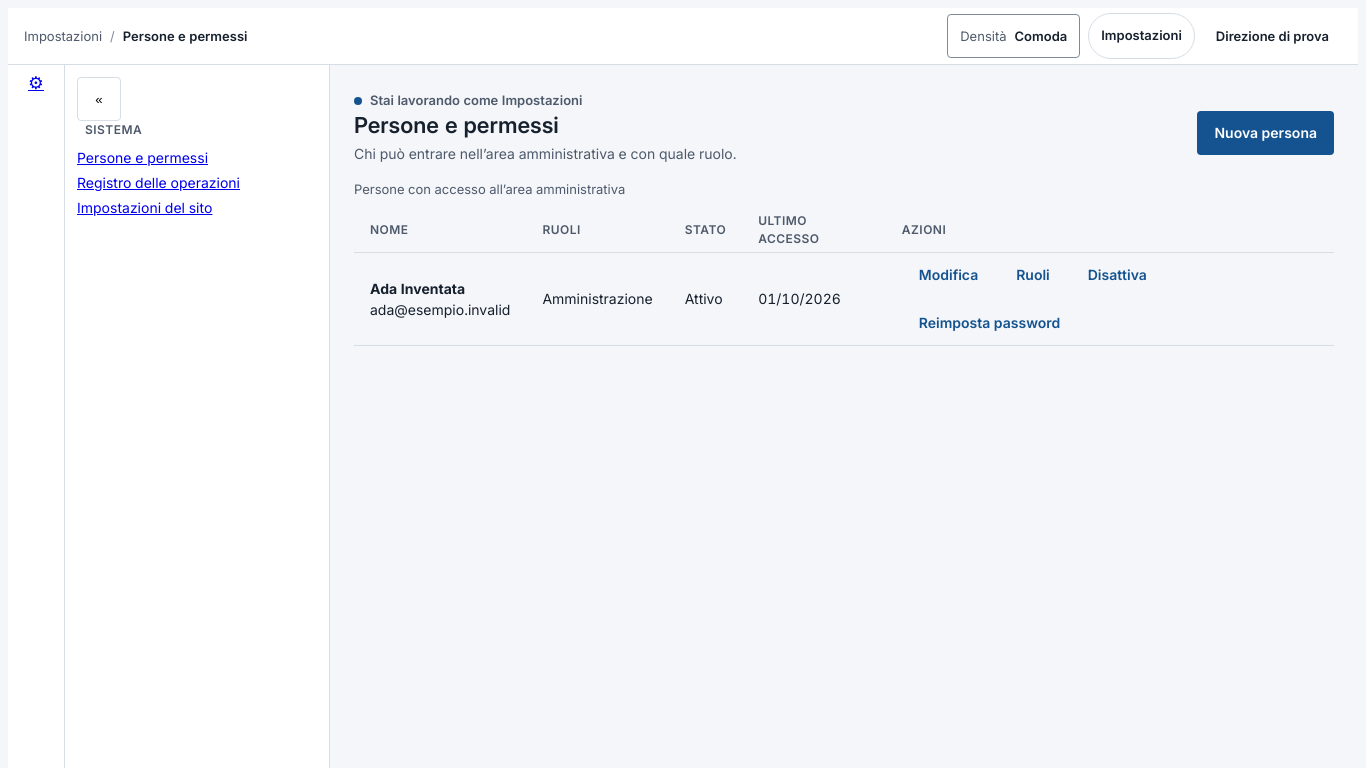
it: persone e permessi › mostra in italiano l’errore dell’ultima amministrazione
The image size is (1366, 768).
Expected: the text "Ada Inventata" is shown, [370,280,465,297]
Click the button with aria-label "Disattiva Ada Inventata". click: x=1117, y=275
box: [1071,253,1164,297]
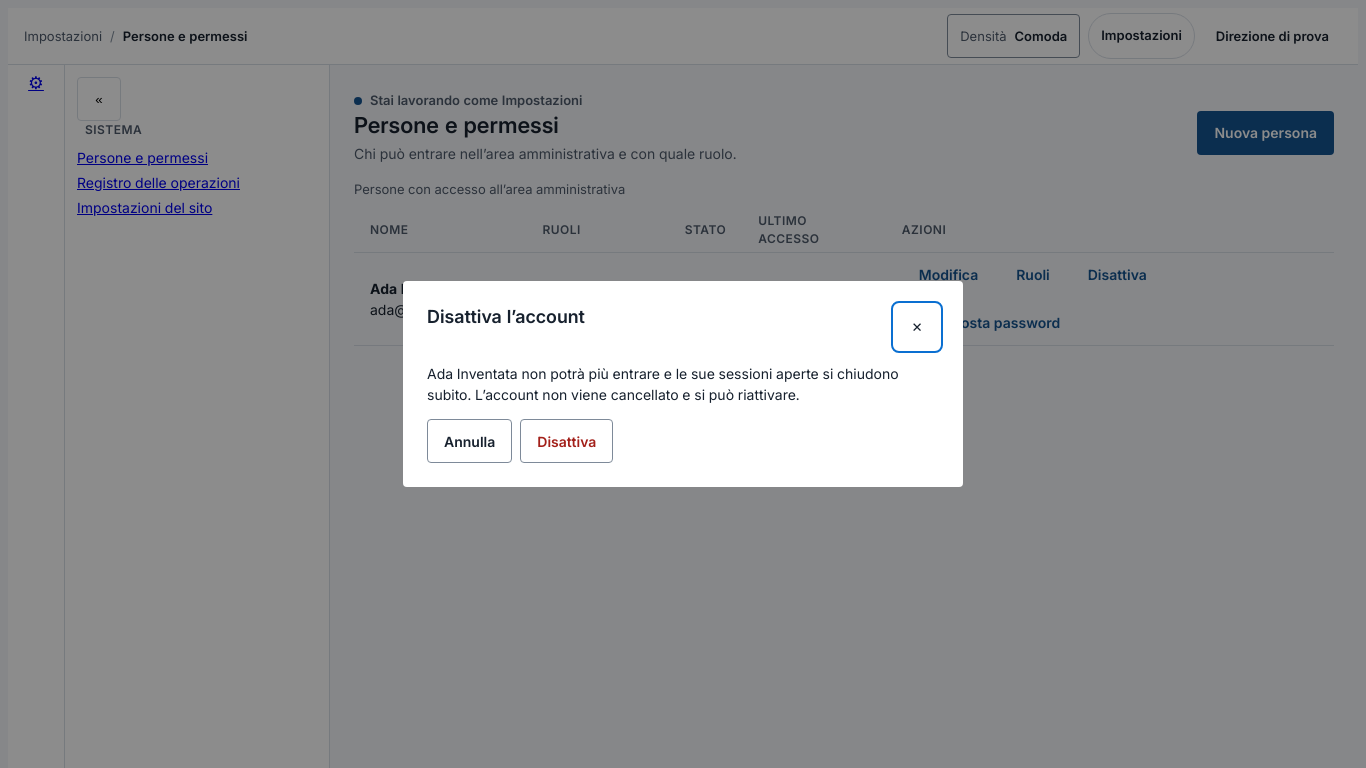
Click the button "Disattiva". click: x=567, y=441
box: [520,419,613,463]
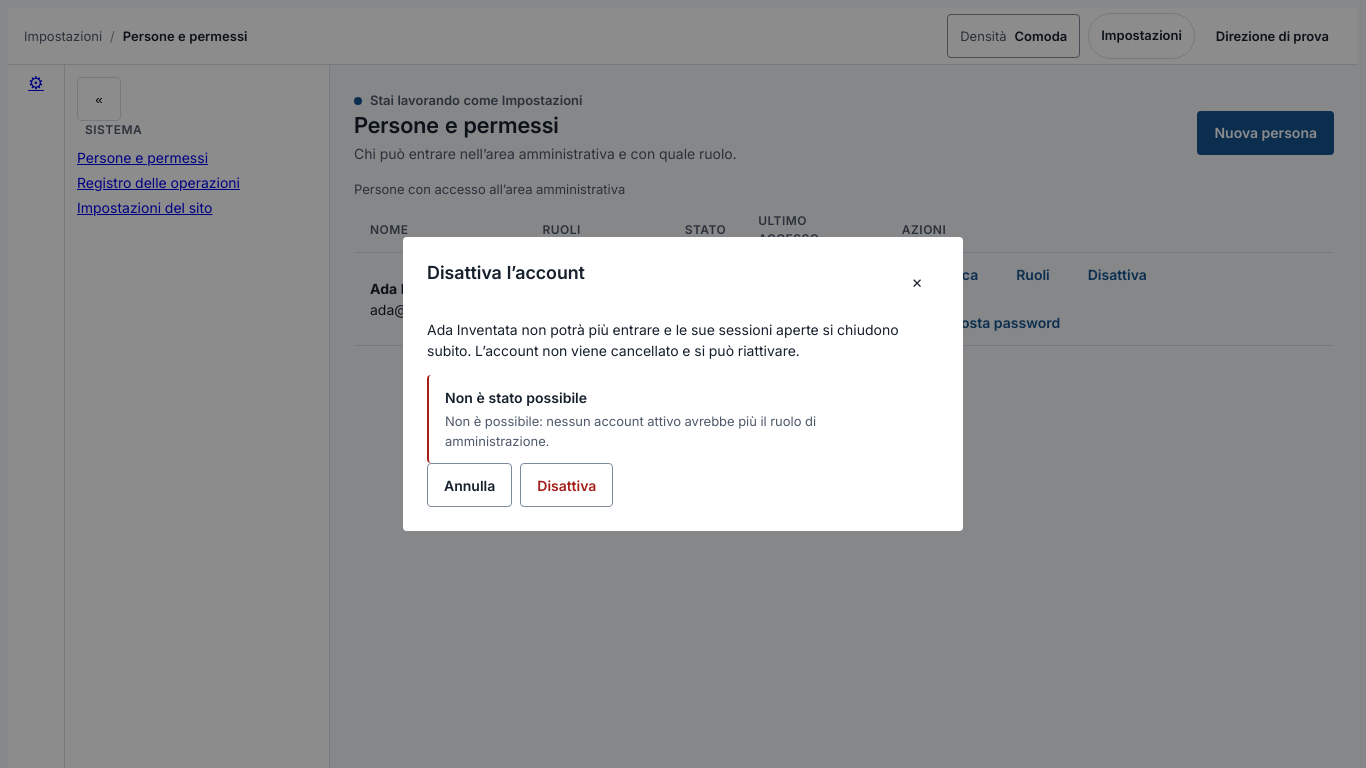
Result: the text "nessun account attivo avrebbe più il ruolo" is shown at [445,413,816,448]
